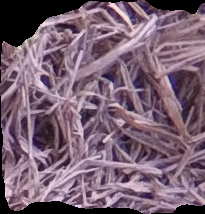soil: (1, 2, 205, 212)
